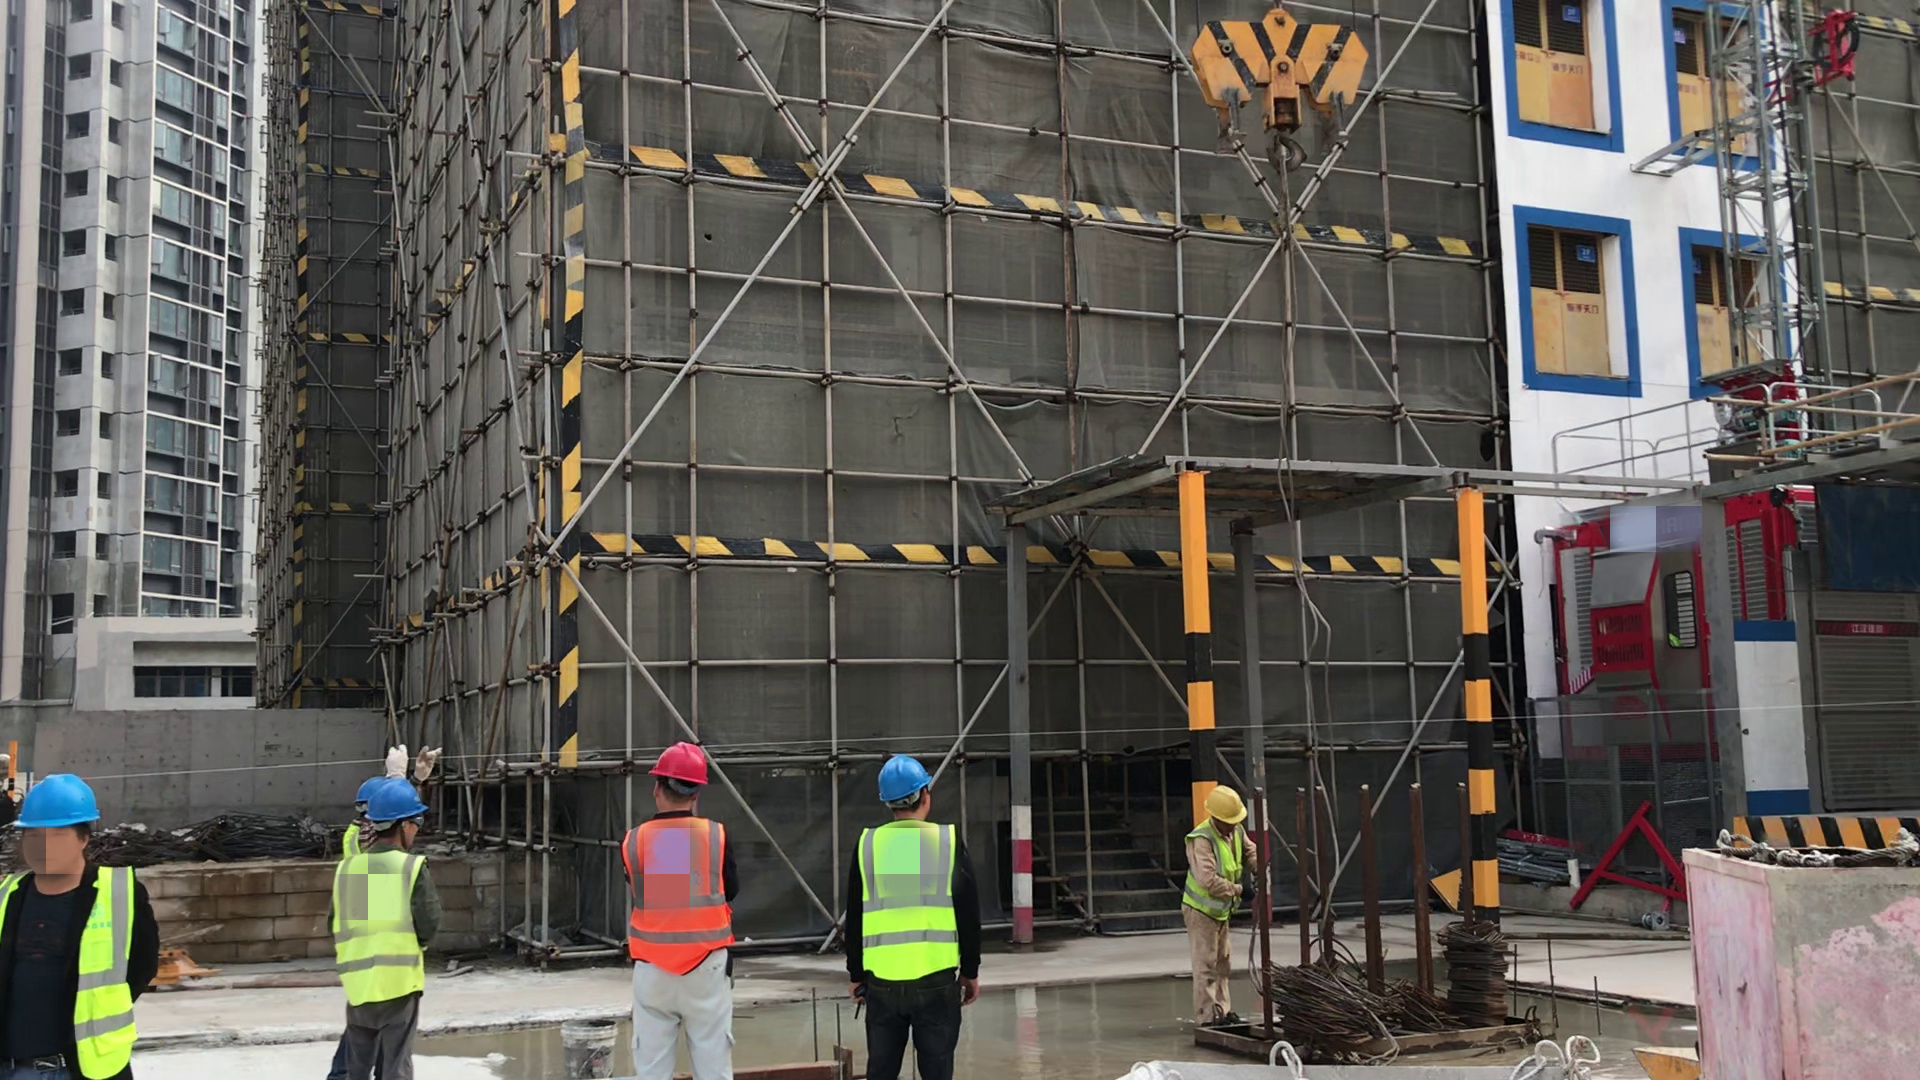helmet: (15, 775, 100, 827), (876, 755, 931, 802), (650, 745, 710, 786), (368, 783, 430, 822), (1206, 786, 1247, 825)
person: (2, 774, 149, 1080), (852, 754, 977, 1080), (627, 746, 739, 1080), (335, 783, 429, 1080), (1181, 789, 1256, 1024)
vest: (2, 868, 138, 1077), (624, 823, 739, 981), (856, 822, 966, 985), (331, 856, 432, 1003), (1190, 826, 1255, 918)
